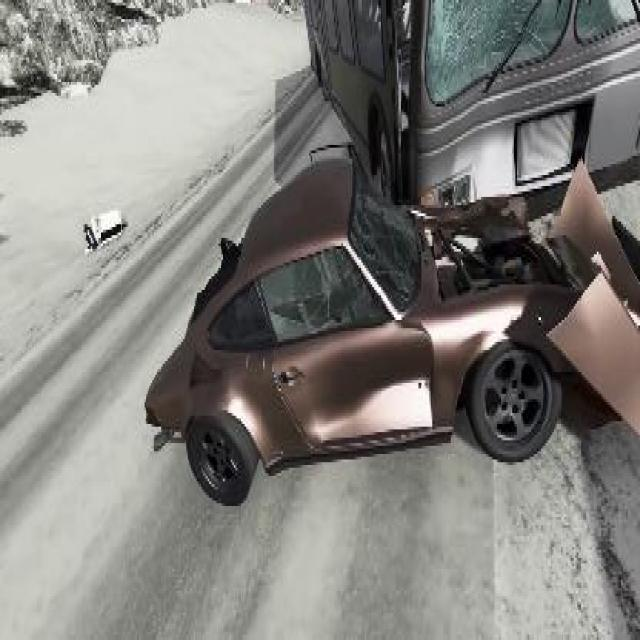accident: (134, 0, 640, 520)
